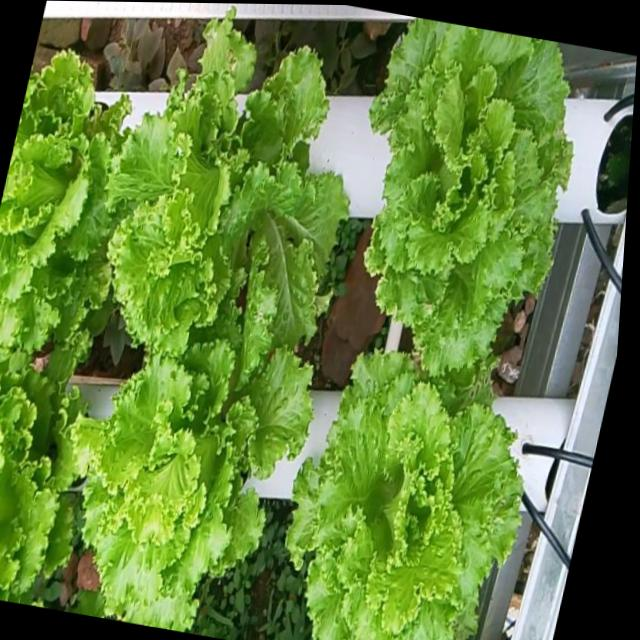Mature: (99, 13, 343, 342), (357, 17, 564, 383), (71, 311, 306, 629), (277, 349, 512, 640), (0, 39, 124, 341), (0, 345, 70, 601)
